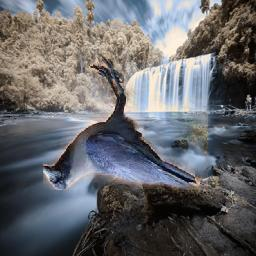Crow: (44, 52, 209, 190)
